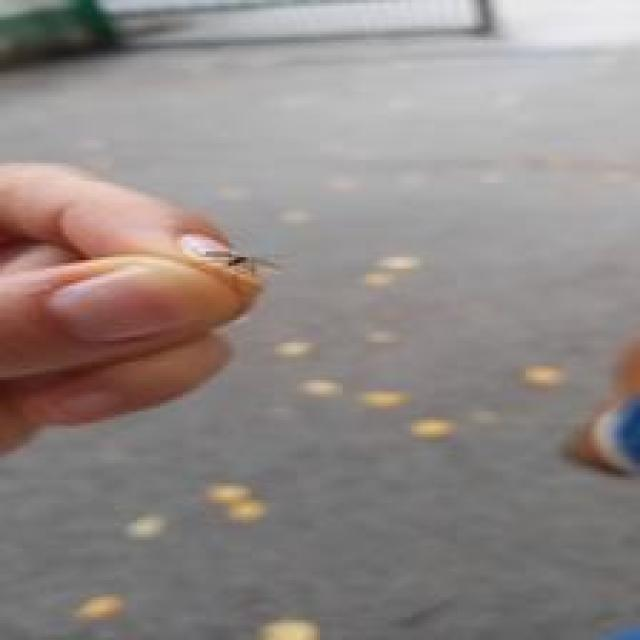Aedes albopictus: (177, 233, 283, 278)
